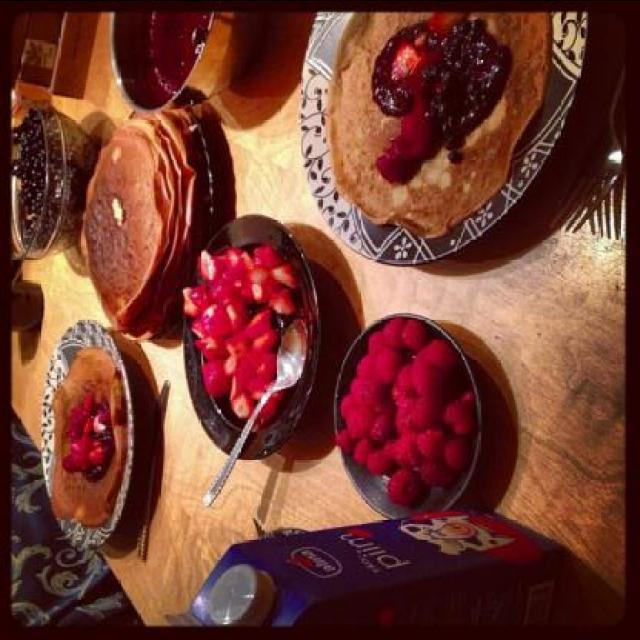Pancake: (325, 5, 553, 243), (82, 107, 214, 345), (45, 343, 128, 535)
